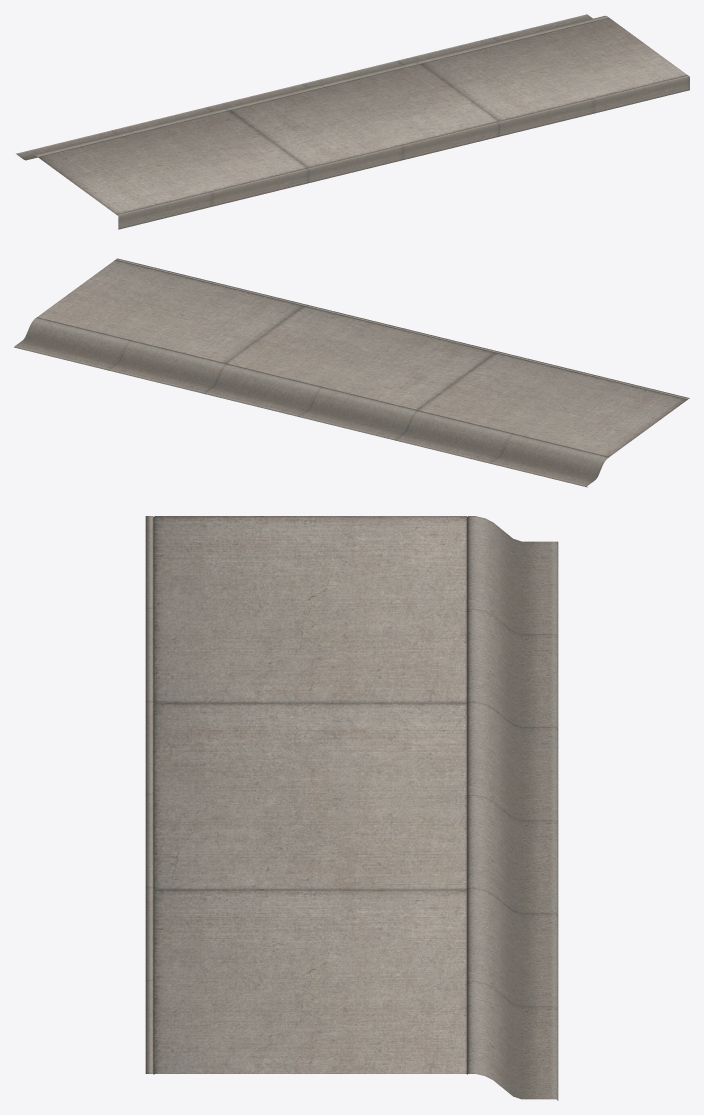
Rendered from SM_Sidewalk_01.glb.
3 views of the same model, one above another, from view 1: azimuth 30°, elevation 25°; view 2: azimuth 150°, elevation 25°; view 3: azimuth 270°, elevation 25° (orthographic). The views are drawn at different scales.
Visible parts, largest first — view 1: SM_Sidewalk_01; view 2: SM_Sidewalk_01; view 3: SM_Sidewalk_01.
Part boxes in pixels (x1,y1,x2,y2): SM_Sidewalk_01: [16, 14, 689, 229]; SM_Sidewalk_01: [14, 258, 689, 487]; SM_Sidewalk_01: [145, 516, 558, 1100].
Size of the model in its own units: 8.02 by 0.18 by 2.5.
1 material, 1 textured.
